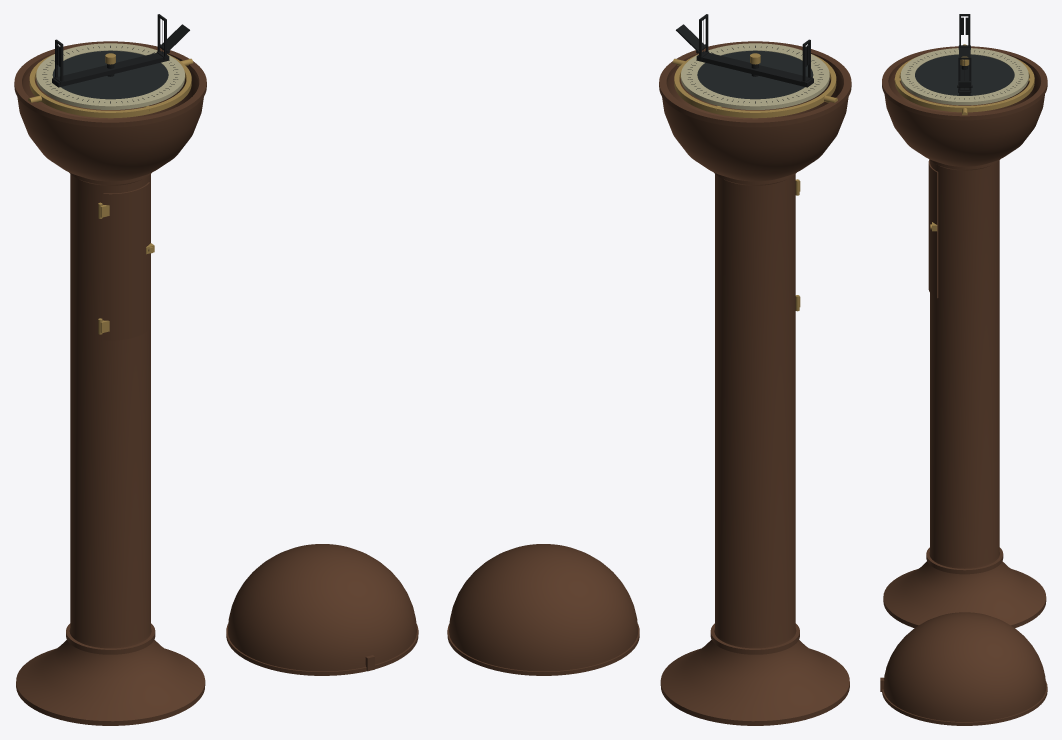
The model's file is NEW687_Pelorus_LOD0_v001.glb.
3 renders of one model, left to right at view 1: azimuth 30°, elevation 25°; view 2: azimuth 150°, elevation 25°; view 3: azimuth 270°, elevation 25°, orthographic. The views are drawn at different scales.
Visible parts, largest first — view 1: Pedestal_foot_column, Detached_complete_hood, Upper_bowl, Curved_access_door, Azimuth_plate_brass_rim, Dark_glass_dial_face, Bowl_rim, External_gimbal_ring, Black_alidade, Hood_lower_band, Lower_column_collar; view 2: Pedestal_foot_column, Detached_complete_hood, Upper_bowl, Azimuth_plate_brass_rim, Dark_glass_dial_face, Bowl_rim, External_gimbal_ring, Black_alidade, Hood_lower_band, Lower_column_collar; view 3: Pedestal_foot_column, Detached_complete_hood, Upper_bowl, Dark_glass_dial_face, Azimuth_plate_brass_rim, Bowl_rim, Curved_access_door, External_gimbal_ring, Hood_lower_band, Lower_column_collar, Black_alidade.
Part boxes in pixels (x1,y1,x2,y2): Pedestal_foot_column: (16, 172, 205, 725); Detached_complete_hood: (228, 544, 416, 671); Upper_bowl: (17, 69, 203, 181); Curved_access_door: (103, 182, 149, 340); Azimuth_plate_brass_rim: (36, 43, 184, 109); Dark_glass_dial_face: (52, 50, 168, 99); Bowl_rim: (14, 41, 206, 127); External_gimbal_ring: (29, 54, 191, 118); Black_alidade: (52, 51, 169, 87); Hood_lower_band: (226, 623, 418, 675); Lower_column_collar: (66, 623, 155, 654); Pedestal_foot_column: (660, 172, 849, 725); Detached_complete_hood: (449, 544, 637, 671); Upper_bowl: (662, 69, 848, 181); Azimuth_plate_brass_rim: (681, 43, 829, 109); Dark_glass_dial_face: (697, 50, 813, 99); Bowl_rim: (659, 41, 851, 127); External_gimbal_ring: (674, 54, 836, 118); Black_alidade: (696, 51, 813, 87); Hood_lower_band: (447, 623, 639, 675); Lower_column_collar: (710, 623, 799, 654); Pedestal_foot_column: (883, 159, 1046, 627); Detached_complete_hood: (883, 612, 1046, 721); Upper_bowl: (884, 70, 1044, 166); Dark_glass_dial_face: (915, 54, 1014, 95); Azimuth_plate_brass_rim: (900, 48, 1028, 105); Bowl_rim: (882, 46, 1047, 120); Curved_access_door: (928, 160, 938, 298); External_gimbal_ring: (895, 57, 1034, 112); Hood_lower_band: (882, 681, 1047, 725); Lower_column_collar: (926, 547, 1003, 574); Black_alidade: (959, 45, 970, 95).
Size of the model in its own units: 0.822 by 1.36 by 0.3655.
